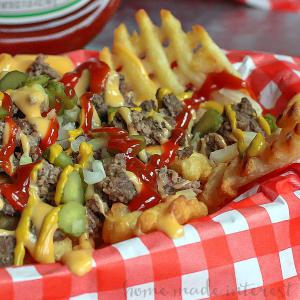fries: (7, 15, 294, 279)
